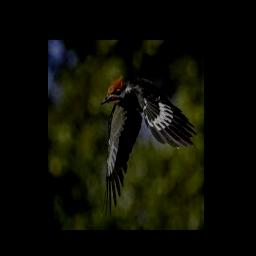Woodpecker: (101, 74, 197, 217)
